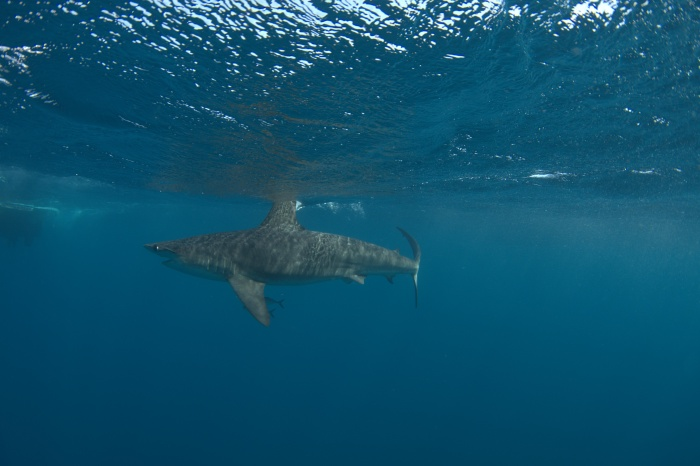Hammer: (94, 171, 457, 343)
